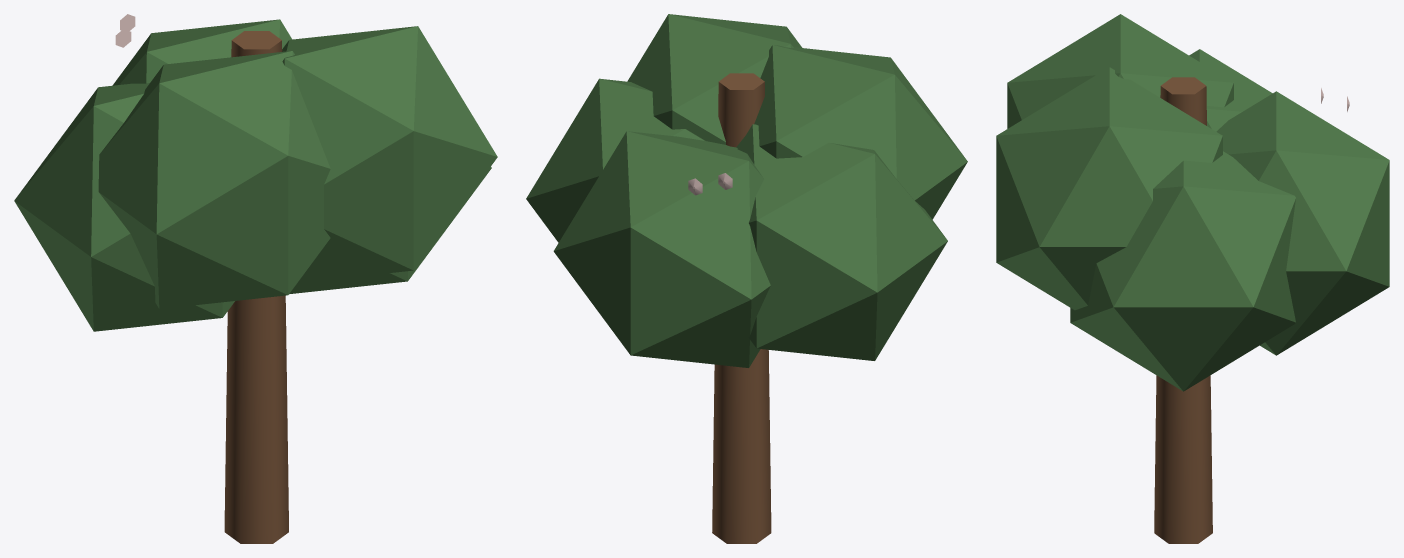
File: crop-cherry-blossom-tree-stage-3-budding.source.glb
3 views of the same model, side by side, from view 1: azimuth 30°, elevation 25°; view 2: azimuth 150°, elevation 25°; view 3: azimuth 270°, elevation 25° (orthographic). The views are drawn at different scales.
Visible parts, largest first — view 1: canopy-2, canopy-4, canopy-5, trunk, canopy-3, canopy-1; view 2: canopy-3, canopy-5, canopy-2, trunk, canopy-4, canopy-1; view 3: canopy-1, canopy-4, canopy-3, trunk, canopy-2, canopy-5.
Boxes of the visible parts, <box> form: canopy-2: <box>98,51,330,308</box>; canopy-4: <box>282,26,497,282</box>; canopy-5: <box>14,83,234,331</box>; trunk: <box>224,31,288,543</box>; canopy-3: <box>112,19,292,85</box>; canopy-1: <box>289,167,491,294</box>; canopy-3: <box>553,131,770,367</box>; canopy-5: <box>737,124,947,360</box>; canopy-2: <box>736,45,967,219</box>; trunk: <box>712,73,771,543</box>; canopy-4: <box>627,14,802,144</box>; canopy-1: <box>526,78,704,242</box>; canopy-1: <box>1070,151,1295,391</box>; canopy-4: <box>996,67,1222,310</box>; canopy-3: <box>1216,91,1389,355</box>; trunk: <box>1154,77,1212,543</box>; canopy-2: <box>1007,14,1233,128</box>; canopy-5: <box>1189,49,1272,131</box>.
Size of the model in its own units: 1.79 by 2.21 by 1.71.
